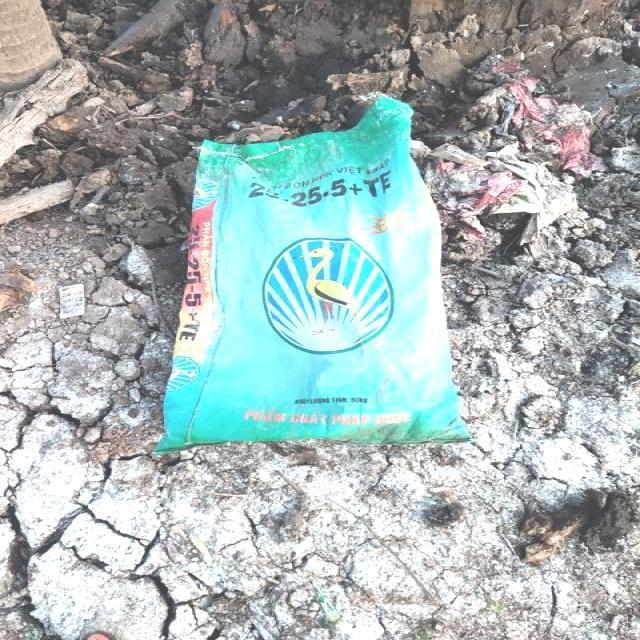gunny_bag: (156, 99, 469, 454)
